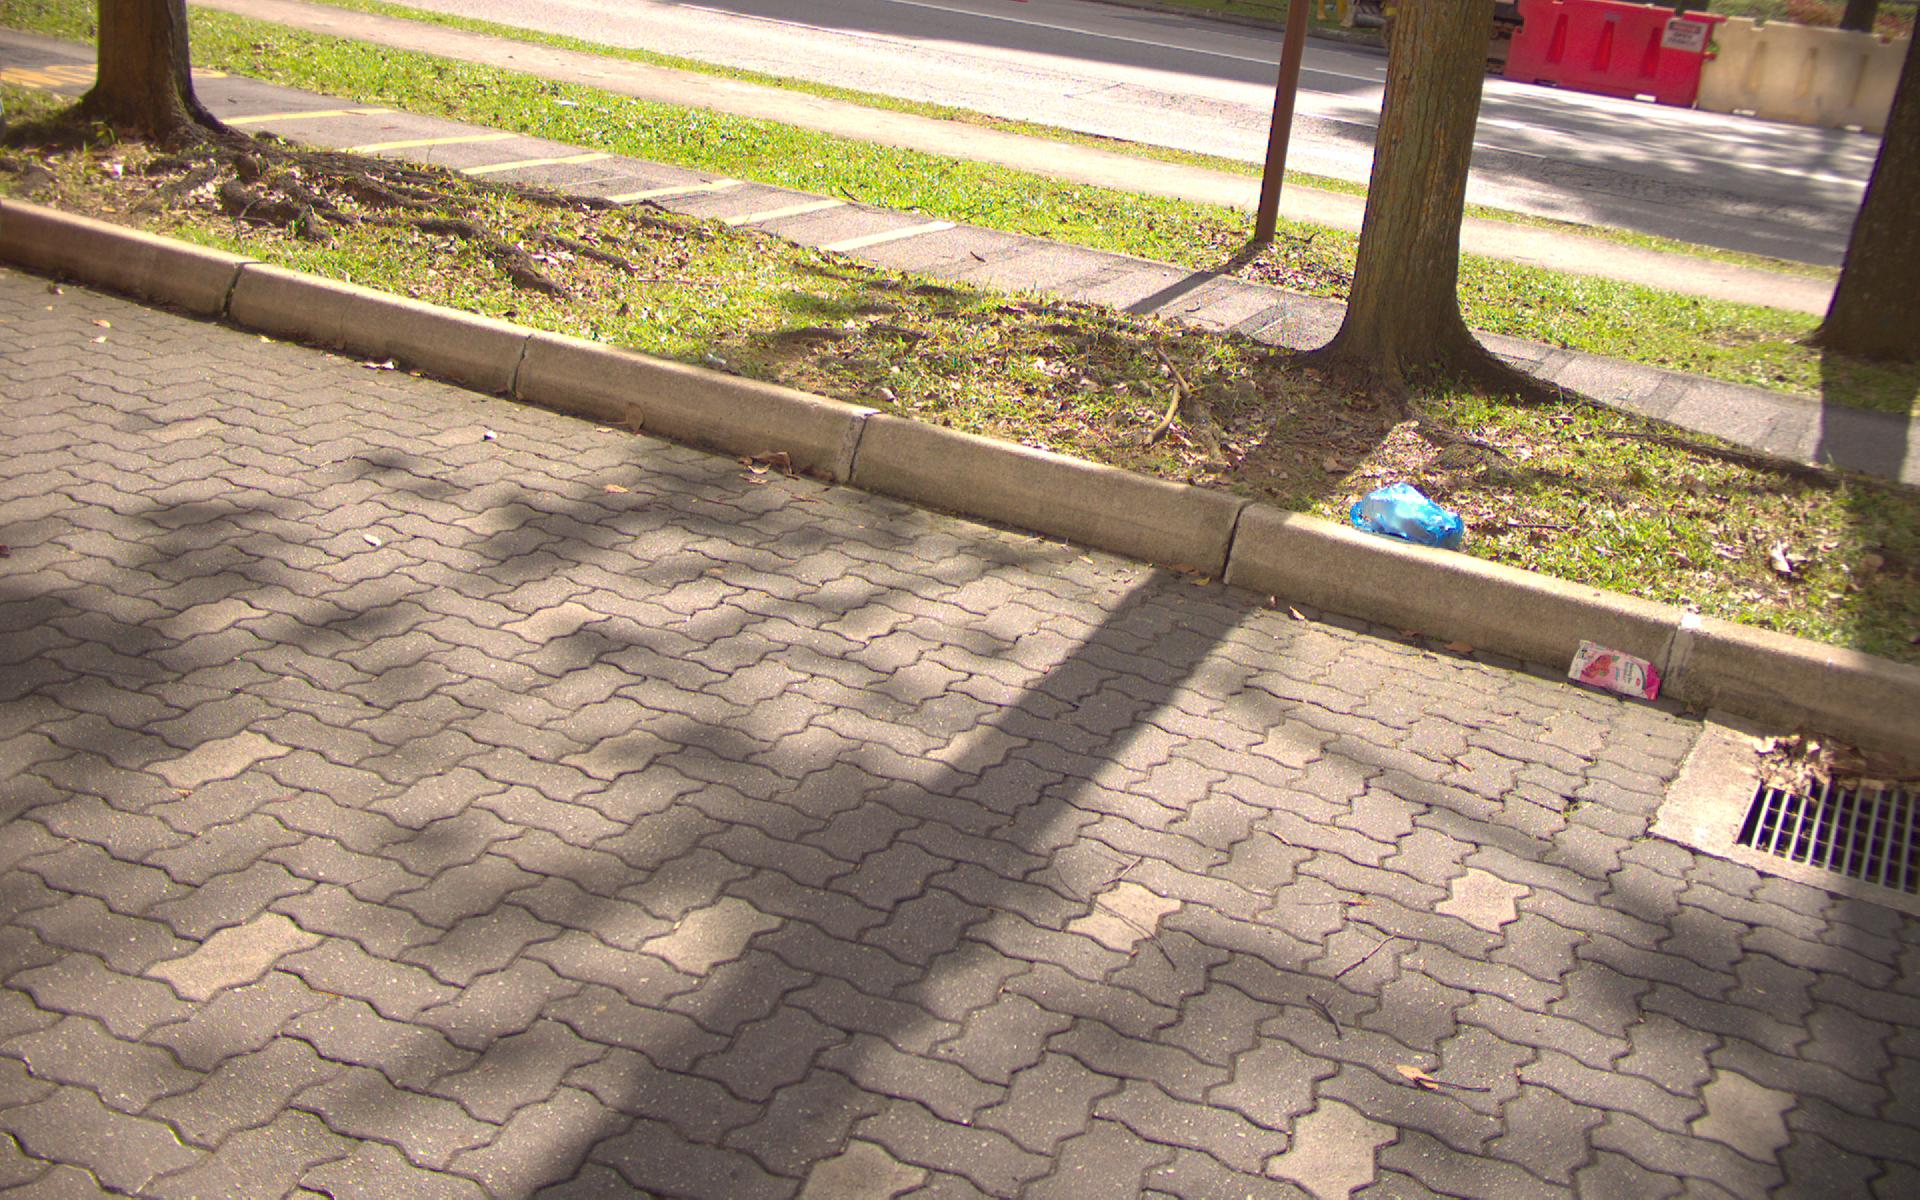curb_dic_medium: (1679, 718, 1920, 910)
road_curb_low: (1458, 693, 1648, 825)
road_curb_medium: (12, 625, 1315, 1200)
road_turf_low: (1140, 347, 1497, 489), (681, 247, 845, 371), (207, 145, 359, 265), (426, 199, 600, 303), (1561, 282, 1675, 346), (570, 90, 668, 142)
